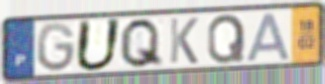A: (244, 11, 293, 63)
G: (35, 20, 78, 74)
K: (168, 16, 200, 65)
Q: (117, 16, 166, 70), (205, 12, 247, 66)
U: (73, 17, 125, 73)
